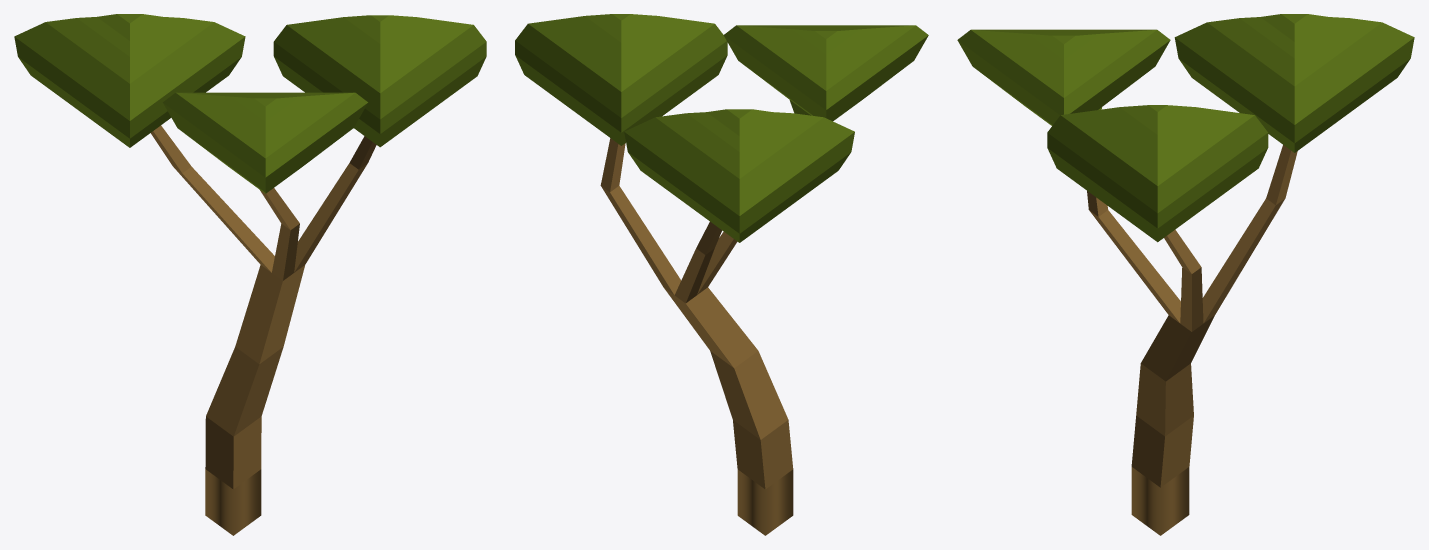
The model's file is Acacia2.fbx.
3 views of the same model, side by side, from view 1: azimuth 30°, elevation 25°; view 2: azimuth 150°, elevation 25°; view 3: azimuth 270°, elevation 25° (orthographic). The views are drawn at different scales.
Parts seen in each view (by area): view 1: Cylinder001; view 2: Cylinder001; view 3: Cylinder001.
Boxes of the visible parts, x1=… form: Cylinder001: x1=14, y1=14, x2=486, y2=535; Cylinder001: x1=515, y1=14, x2=928, y2=535; Cylinder001: x1=957, y1=14, x2=1414, y2=535.
Size of the model in its own units: 116 by 150 by 127.
